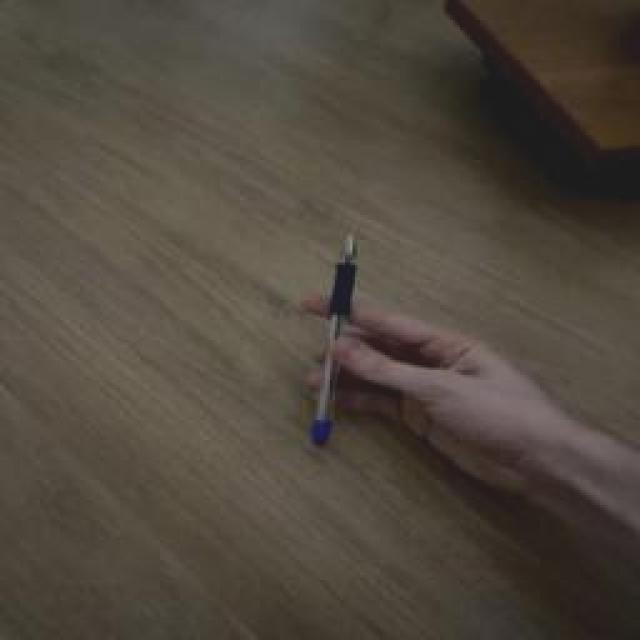pen: (304, 233, 362, 448)
